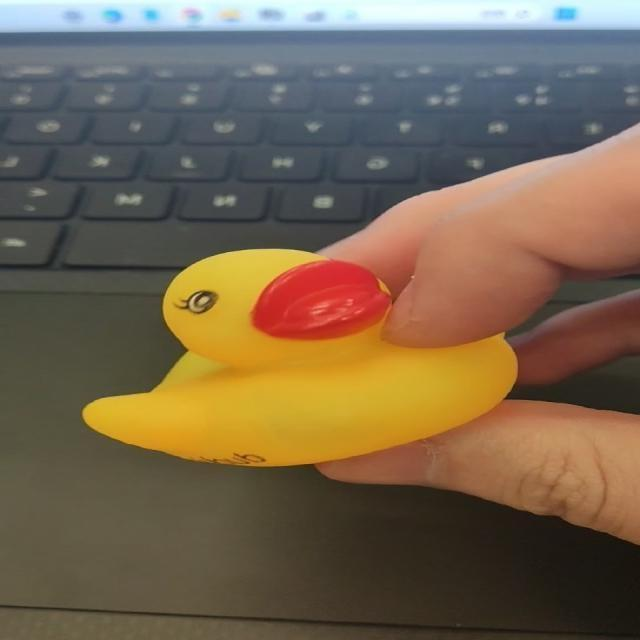rubber-duck: (82, 248, 515, 464)
